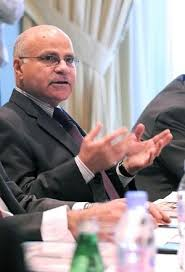middle_eastern_male: (16, 28, 80, 104)
